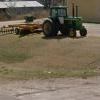Tractor: (34, 4, 93, 44)
